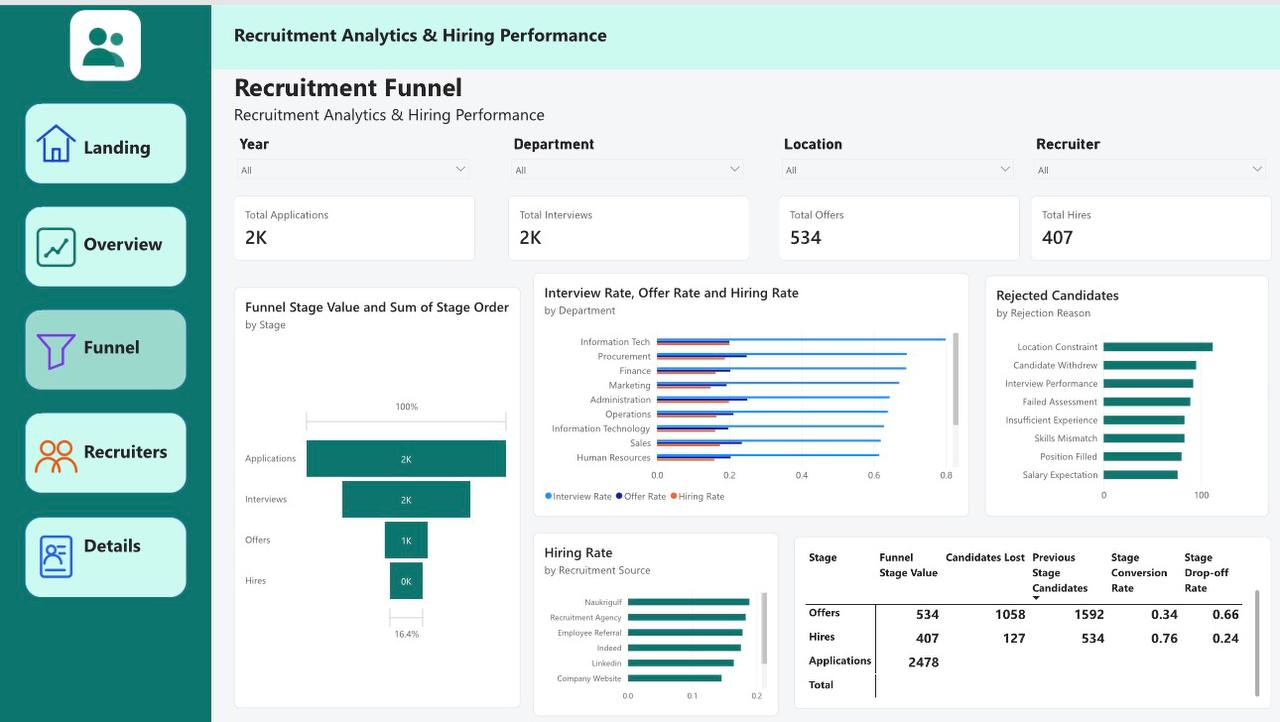

This screenshot's page, from the dashboard's own definition file:
{"tool":"powerbi","page":{"name":"Recruitment Funnel","canvas":[1920,1080],"ordinal":2},"visuals":[{"type":"shape","box":[0,0,317,1080.6],"z":0},{"type":"shape","box":[37,146.2,242.9,121.4],"z":1},{"type":"shape","box":[37,302.6,242.9,121.4],"z":2},{"type":"shape","box":[37,457,242.9,121.4],"z":3},{"type":"shape","box":[37,611.4,242.9,121.4],"z":4},{"type":"shape","box":[37,767.8,242.9,121.4],"z":5},{"type":"image","box":[43.2,168.8,82.3,80.3],"z":6},{"type":"image","box":[43.2,323.2,82.3,80.3],"z":7},{"type":"image","box":[43.2,477.6,82.3,80.3],"z":8},{"type":"image","box":[43.2,634,82.3,80.3],"z":9},{"type":"image","box":[43.2,788.4,82.3,80.3],"z":10},{"type":"shape","box":[316.6,0,1603.4,96.7],"z":11},{"type":"textbox","box":[349.9,24.7,609.3,49.4],"z":12},{"type":"textbox","box":[349.9,96.7,358.1,49.4],"z":13},{"type":"slicer","fields":{"Values":["Date Table.Date.Variation.Date Hierarchy.Year"]},"box":[349.9,197.7,358.1,63.8],"z":14},{"type":"slicer","fields":{"Values":["Recruitment_Data.Department"]},"box":[761.6,197.7,358.1,63.8],"z":15},{"type":"slicer","fields":{"Values":["Recruitment_Data.Location"]},"box":[1167.1,197.7,358.1,63.8],"z":16},{"type":"slicer","fields":{"Values":["Recruitment_Data.Recruiter"]},"box":[1545.8,197.7,358.1,63.8],"z":17},{"type":"cardVisual","fields":{"Data":["Recruitment_Data.Total Applications"]},"box":[349.9,286.1,362.3,98.8],"z":18},{"type":"clusteredBarChart","fields":{"Category":["Recruitment_Data.Department"],"Y":["Recruitment_Data.Interview Rate","Recruitment_Data.Offer Rate","Recruitment_Data.Hiring Rate"]},"box":[798.6,401.4,654.5,366.4],"z":25},{"type":"clusteredBarChart","fields":{"Category":["Recruitment_Data.Rejection Reason"],"Y":["Recruitment_Data.Rejected Candidates"]},"box":[1477.9,405.5,426.1,362.3],"z":26},{"type":"pivotTable","fields":{"Rows":["Funnel Stages.Stage"],"Values":["Funnel Stages.Funnel Stage Value","Funnel Stages.Candidates Lost","Funnel Stages.Previous Stage Candidates","Funnel Stages.Stage Conversion Rate","Funnel Stages.Stage Drop-off Rate"]},"box":[1191.8,796.6,716.3,259.3],"z":28},{"type":"textbox","box":[125.6,193.5,107,49.4],"z":29},{"type":"textbox","box":[125.6,339.6,127.6,49.4],"z":30},{"type":"textbox","box":[125.6,494,107,49.4],"z":31},{"type":"textbox","box":[125.6,650.4,154.4,49.4],"z":32},{"type":"textbox","box":[125.6,792.5,107,49.4],"z":33},{"type":"textbox","box":[349.9,146.1,502.2,32.9],"z":34},{"type":"cardVisual","fields":{"Data":["Recruitment_Data.Total Interviews"]},"box":[761.6,286.1,362.3,98.8],"z":35},{"type":"cardVisual","fields":{"Data":["Recruitment_Data.Total Offers"]},"box":[1167.1,286.1,362.3,98.8],"z":36},{"type":"cardVisual","fields":{"Data":["Recruitment_Data.Total Hires"]},"box":[1545.8,286.1,362.3,98.8],"z":37},{"type":"clusteredBarChart","fields":{"Category":["Recruitment_Data.Recruitment Source"],"Y":["Recruitment_Data.Hiring Rate"]},"box":[798.6,792.5,368.4,275.8],"z":38},{"type":"funnel","fields":{"Category":["Funnel Stages.Stage"],"Y":["Funnel Stages.Funnel Stage Value"]},"box":[349.9,424,430.2,631.9],"z":39},{"type":"image","box":[8.2,0,300.5,121.4],"z":40}]}

Visuals, with their boxes on the page's 1920x1080 design canvas (x1, y1, x2, y2). These are canvas units, not pixel positions in the 1280x722 screenshot, which may show the page scaled, cropped or inside an application window:
shape: box=[0, 0, 317, 1081]
shape: box=[37, 146, 280, 268]
shape: box=[37, 303, 280, 424]
shape: box=[37, 457, 280, 578]
shape: box=[37, 611, 280, 733]
shape: box=[37, 768, 280, 889]
image: box=[43, 169, 126, 249]
image: box=[43, 323, 126, 404]
image: box=[43, 478, 126, 558]
image: box=[43, 634, 126, 714]
image: box=[43, 788, 126, 869]
shape: box=[317, 0, 1920, 97]
textbox: box=[350, 25, 959, 74]
textbox: box=[350, 97, 708, 146]
slicer - Date Table.Date.Variation.Date Hierarchy.Year: box=[350, 198, 708, 262]
slicer - Recruitment_Data.Department: box=[762, 198, 1120, 262]
slicer - Recruitment_Data.Location: box=[1167, 198, 1525, 262]
slicer - Recruitment_Data.Recruiter: box=[1546, 198, 1904, 262]
cardVisual - Recruitment_Data.Total Applications: box=[350, 286, 712, 385]
clusteredBarChart - Recruitment_Data.Department x Recruitment_Data.Interview Rate: box=[799, 401, 1453, 768]
clusteredBarChart - Recruitment_Data.Rejection Reason x Recruitment_Data.Rejected Candidates: box=[1478, 406, 1904, 768]
pivotTable - Funnel Stages.Stage x Funnel Stages.Funnel Stage Value: box=[1192, 797, 1908, 1056]
textbox: box=[126, 194, 233, 243]
textbox: box=[126, 340, 253, 389]
textbox: box=[126, 494, 233, 543]
textbox: box=[126, 650, 280, 700]
textbox: box=[126, 792, 233, 842]
textbox: box=[350, 146, 852, 179]
cardVisual - Recruitment_Data.Total Interviews: box=[762, 286, 1124, 385]
cardVisual - Recruitment_Data.Total Offers: box=[1167, 286, 1529, 385]
cardVisual - Recruitment_Data.Total Hires: box=[1546, 286, 1908, 385]
clusteredBarChart - Recruitment_Data.Recruitment Source x Recruitment_Data.Hiring Rate: box=[799, 792, 1167, 1068]
funnel - Funnel Stages.Stage x Funnel Stages.Funnel Stage Value: box=[350, 424, 780, 1056]
image: box=[8, 0, 309, 121]
